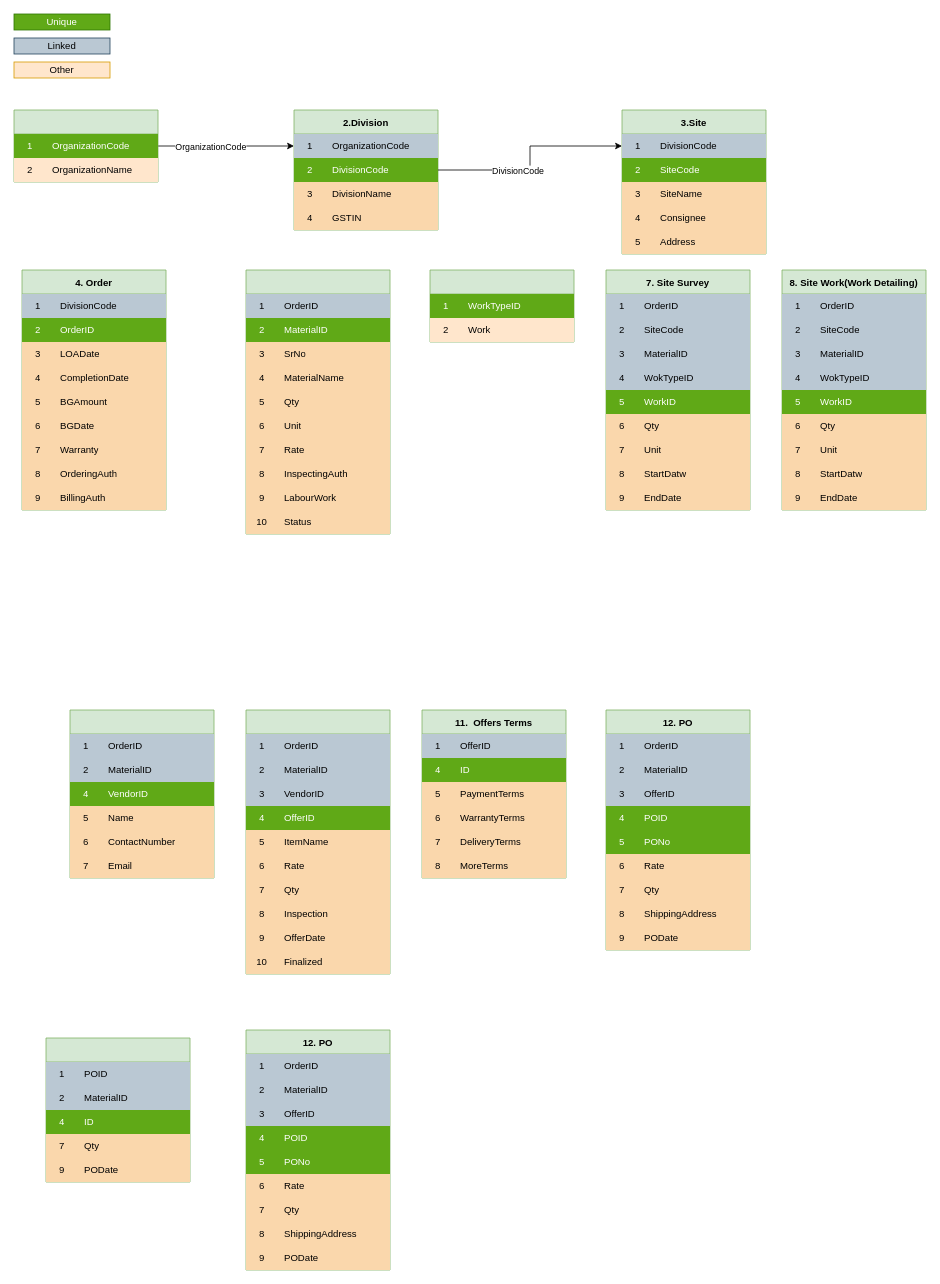
Some shapes in this 940 by 1284 pixel diagram are drawn without their labels. Here are the shapes that lost their labels. From the top down, the box of each, then its label:
(13, 109, 158, 182): 1.Organization
(429, 269, 574, 342): 6. Work Type
(245, 269, 390, 534): 5. Material Requirement
(69, 709, 214, 878): 9. Vendors
(245, 709, 390, 974): 10. Offers
(45, 1037, 190, 1182): 13. MovementControl
